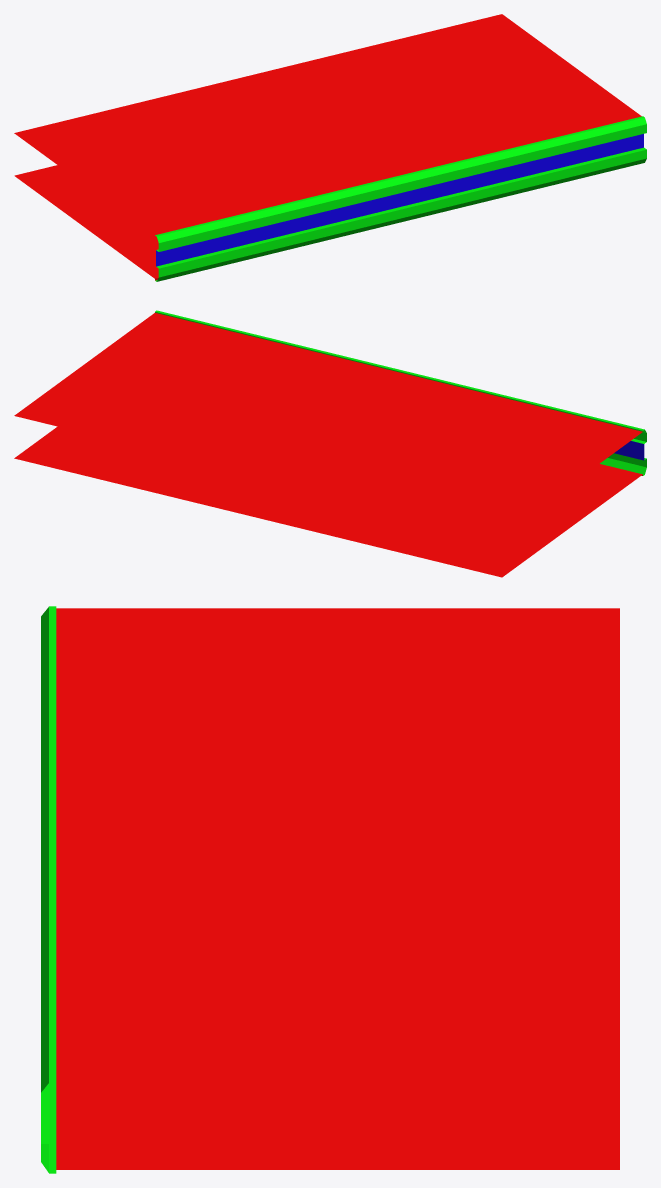
Rendered from Floor - 12 Units.FBX.
3 renders of one model, top to bottom at view 1: azimuth 30°, elevation 25°; view 2: azimuth 150°, elevation 25°; view 3: azimuth 270°, elevation 25°, orthographic. The views are drawn at different scales.
Parts seen in each view (by area): view 1: Floor_low003; view 2: Floor_low003; view 3: Floor_low003.
Boxes of the visible parts, <box> form: Floor_low003: <box>14,14,646,281</box>; Floor_low003: <box>14,310,646,577</box>; Floor_low003: <box>41,606,619,1173</box>.
Bounding box in the file's own units: 1200 × 107 × 617.
